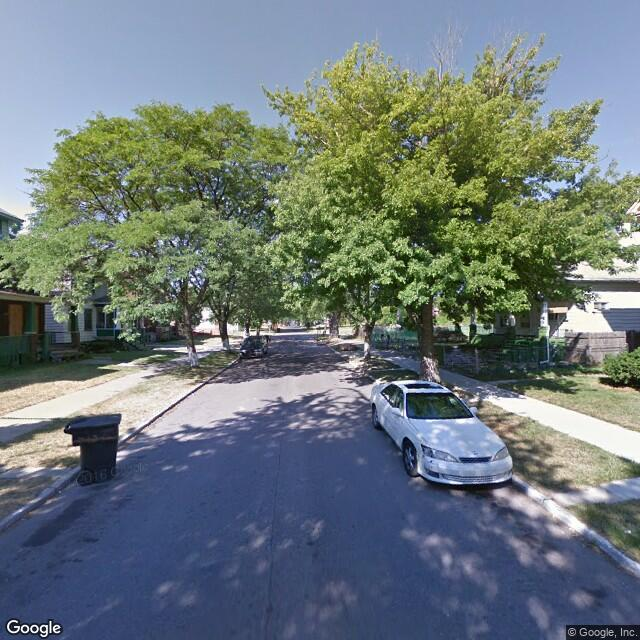litter: (621, 526, 634, 537)
